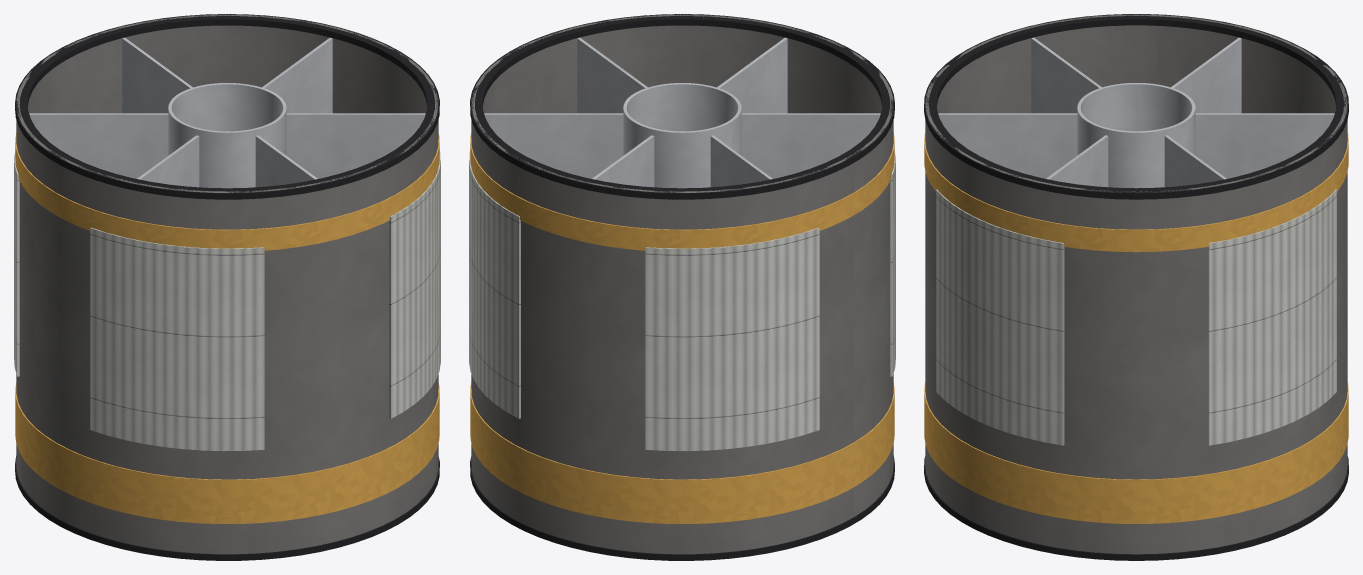
The model's file is cmd10_service_bay_l.glb.
3 views of the same model, side by side, from view 1: azimuth 30°, elevation 25°; view 2: azimuth 150°, elevation 25°; view 3: azimuth 270°, elevation 25° (orthographic).
Parts seen in each view (by area): view 1: skin, radiator_panels, mli_bands, sector_bulkheads, stack_rings, central_tube; view 2: skin, radiator_panels, mli_bands, sector_bulkheads, stack_rings, central_tube; view 3: skin, radiator_panels, mli_bands, sector_bulkheads, stack_rings, central_tube.
Part boxes in pixels (box(x1,y1,x2,y2)): skin: box(16, 14, 438, 554); radiator_panels: box(14, 150, 440, 451); mli_bands: box(15, 133, 439, 523); sector_bulkheads: box(29, 37, 425, 187); stack_rings: box(15, 14, 439, 560); central_tube: box(168, 83, 286, 188); skin: box(471, 14, 893, 554); radiator_panels: box(469, 150, 895, 451); mli_bands: box(470, 133, 894, 523); sector_bulkheads: box(484, 37, 880, 187); stack_rings: box(470, 14, 894, 560); central_tube: box(623, 83, 741, 188); skin: box(925, 14, 1347, 554); radiator_panels: box(936, 189, 1336, 445); mli_bands: box(924, 133, 1348, 523); sector_bulkheads: box(938, 37, 1334, 187); stack_rings: box(924, 14, 1348, 560); central_tube: box(1077, 83, 1195, 188).
Size of the model in its own units: 3.77 by 3.6 by 3.77.
6 materials, 4 textured.
